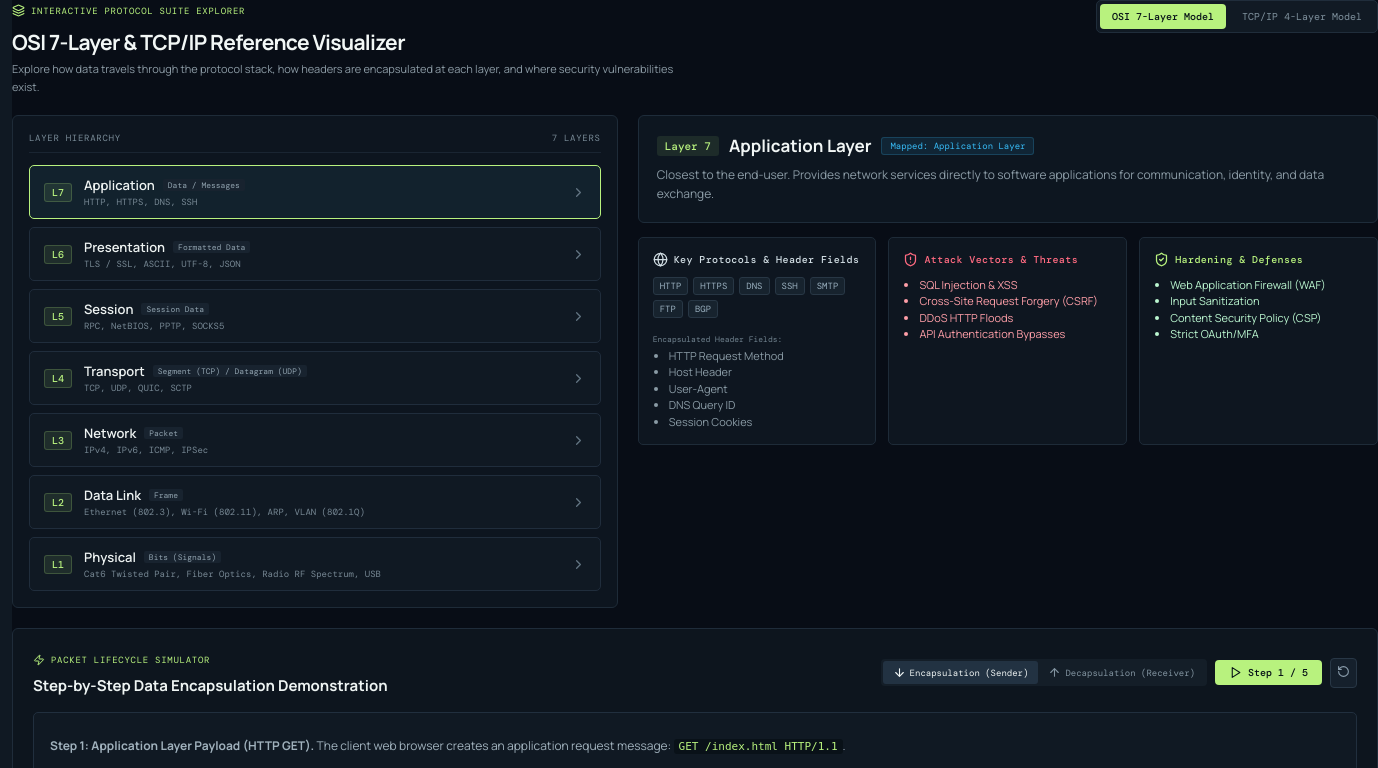
Test: Phase 7: Interactive Visualizers & Learning Experiences › OsiVisualizer renders 7 layers and steps through encapsulation
Check: the text "Application Layer" is shown, box [729,134,871,157]
Check: the text "Data / Messages" is shown, box [163,179,245,191]
Click on Transport Layer L4
Click the text "Transport".
click(114, 371)  # box [84,362,145,380]
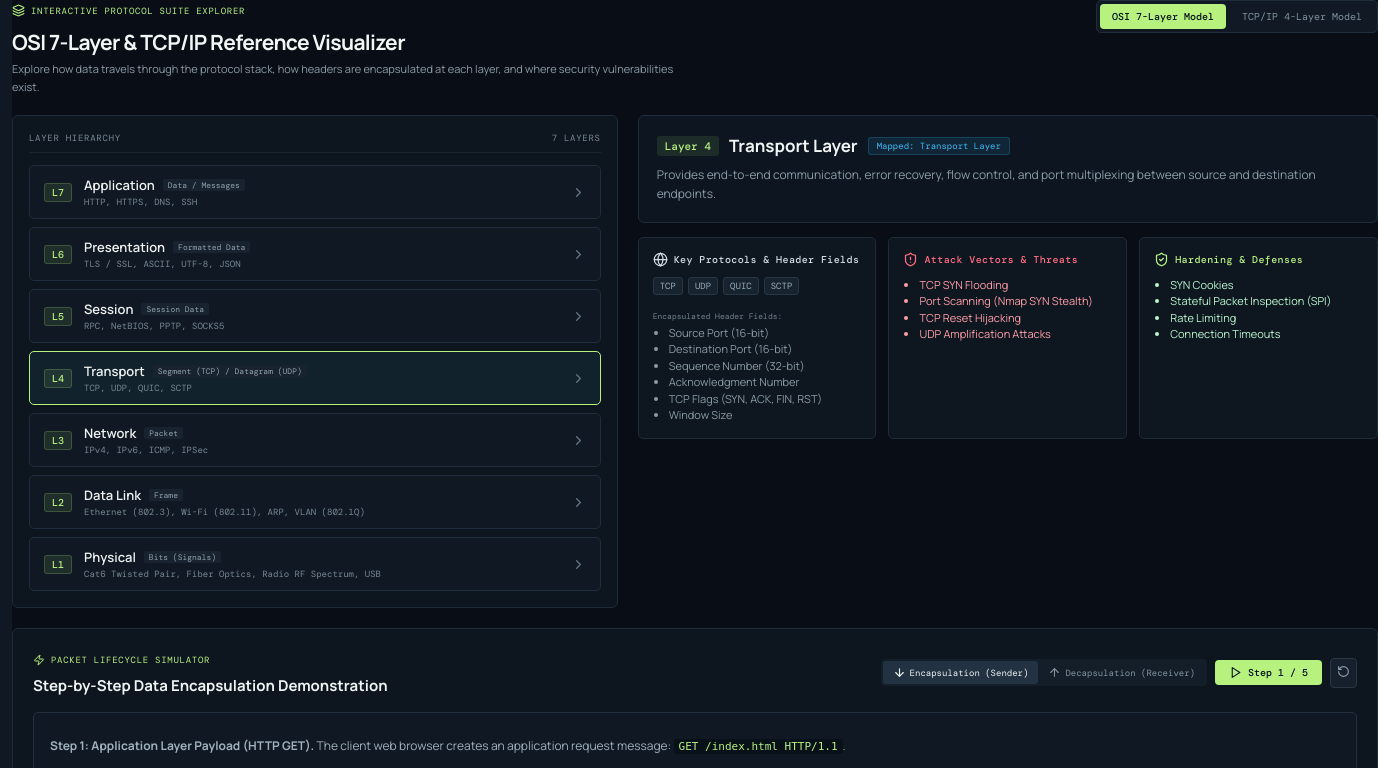
Check: the text "Layer 4" is shown, box [657,136,719,156]
Step through encapsulation
Click the button "Step 1 / 5".
click(1268, 673)  # box [1215,660,1322,685]
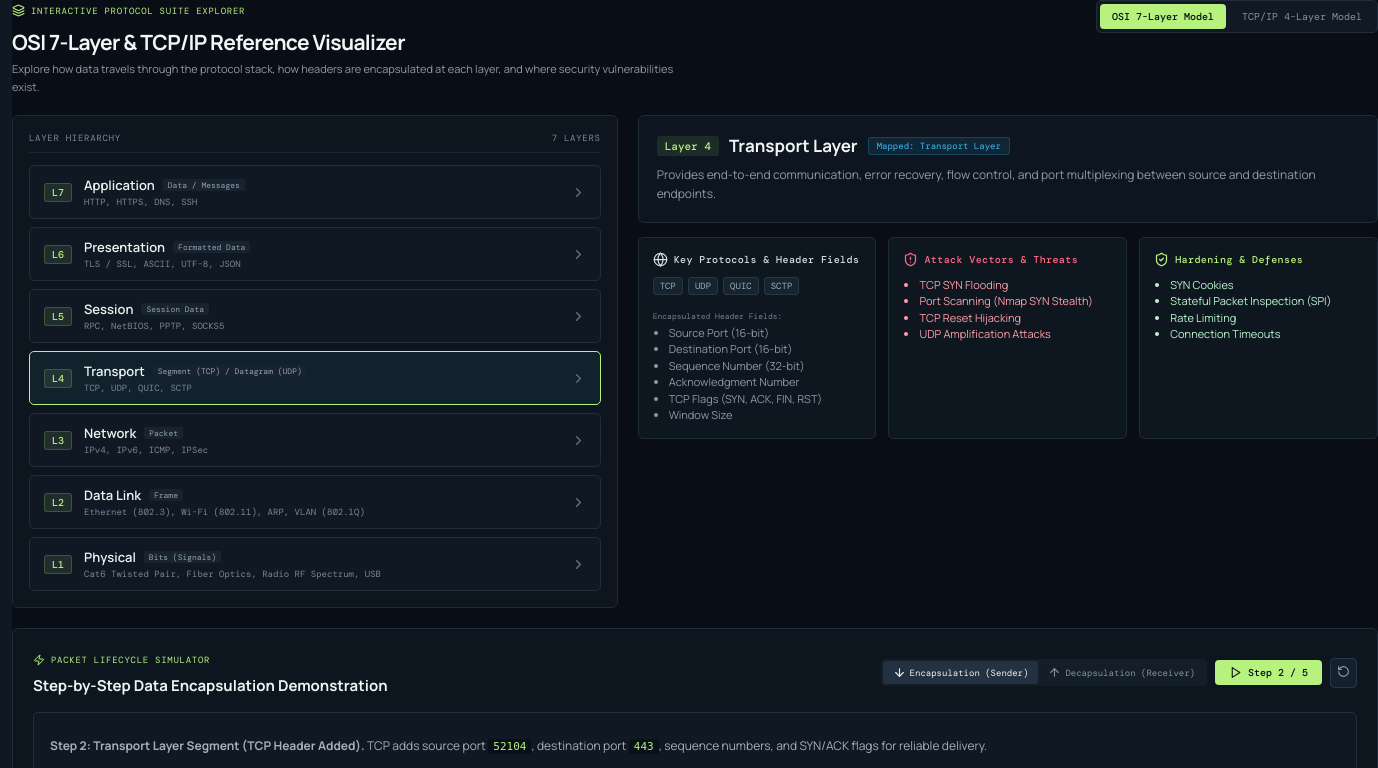
Check: the text "Step 2: Transport Layer Segment (TCP Header Added)." is shown, box [50,737,364,754]
